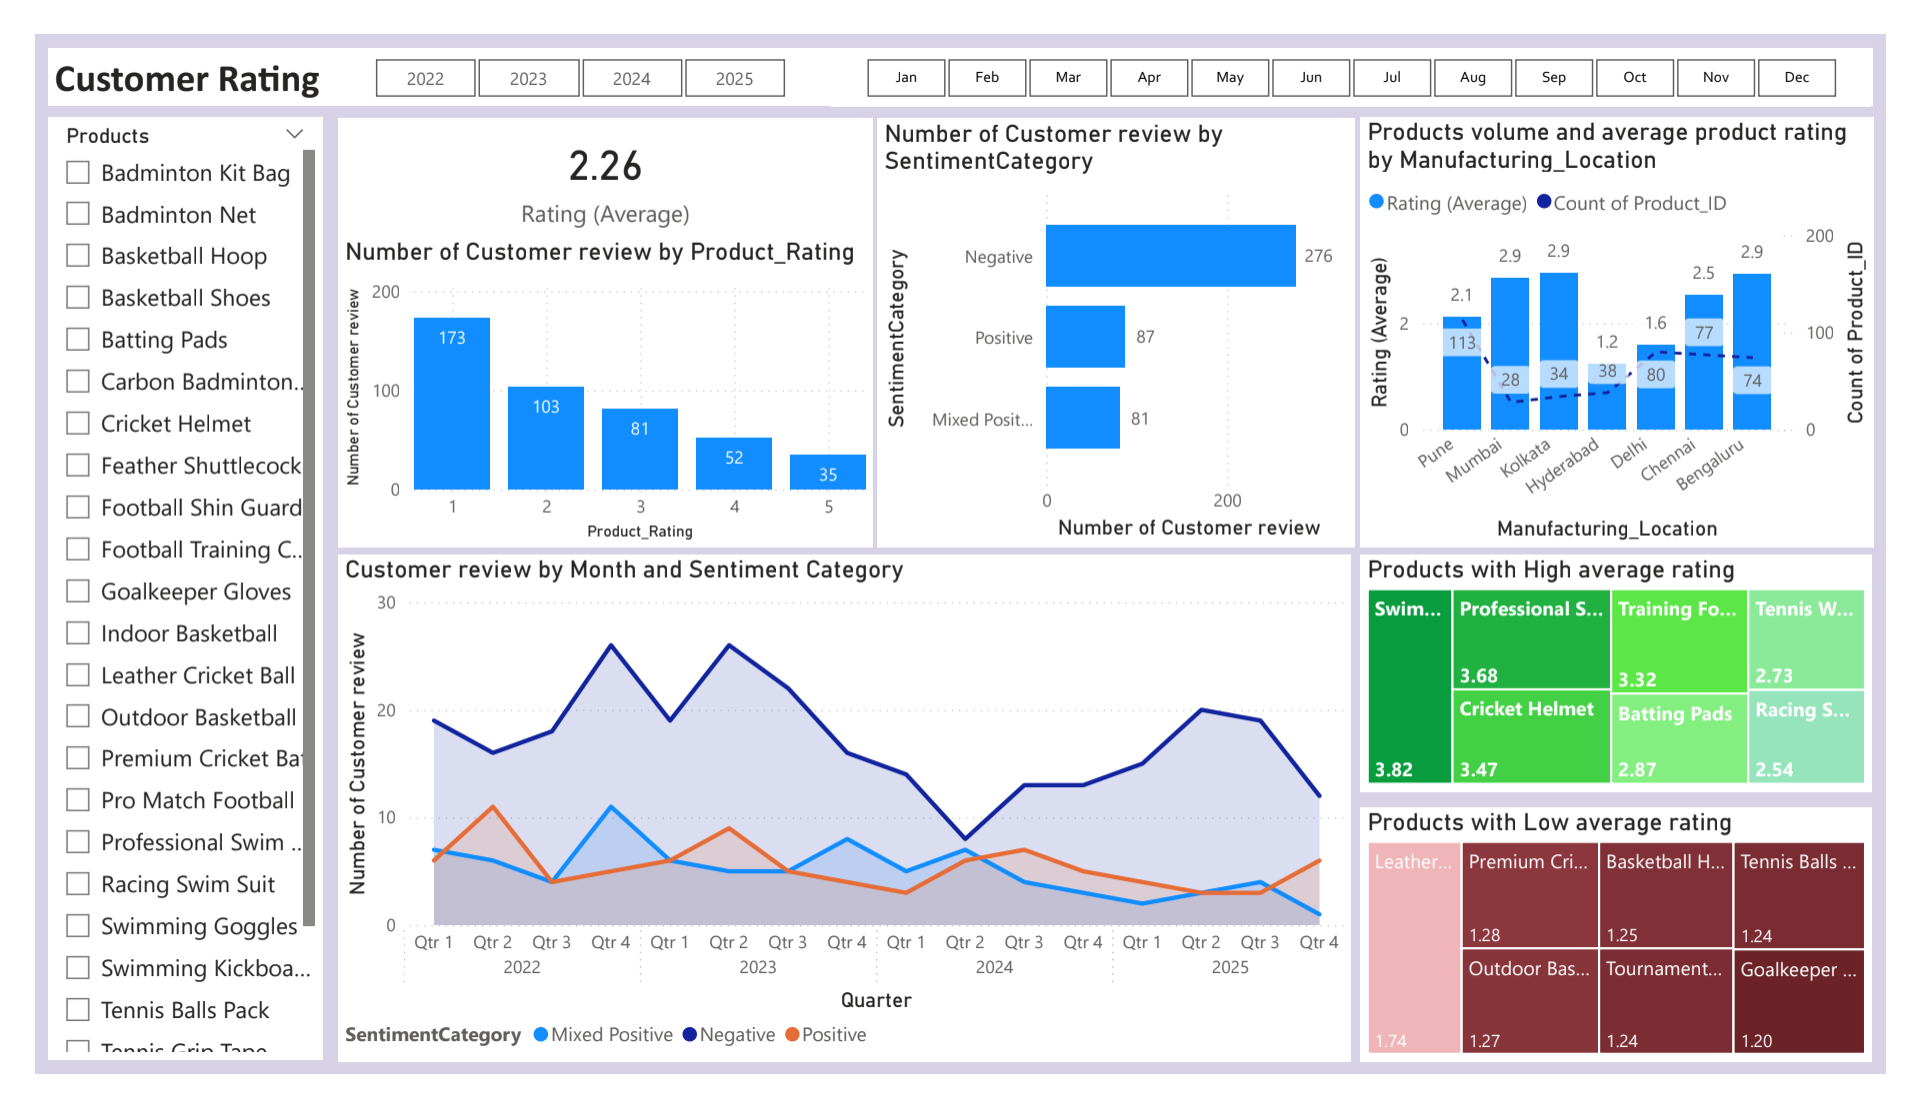

The dashboard page shown, as its layout file describes it:
{"tool":"powerbi","page":{"name":"Cust_Rating","canvas":[1280,720],"ordinal":3},"visuals":[{"type":"textbox","box":[8.8,8.8,1262.5,40],"z":0},{"type":"slicer","fields":{"Values":["Product_master_data.P_Name"]},"box":[8.6,57.1,190,652.9],"z":1000},{"type":"treemap","title":"Products with High average rating","fields":{"Group":["Product_master_data.P_Name"],"Values":["Calculations.Rating (Average)"]},"box":[916.6,359.5,354,164.7],"z":2000},{"type":"slicer","fields":{"Values":["Calendar.Year"]},"box":[209.9,9.6,333.1,39.5],"z":3000,"group":"g1"},{"type":"card","fields":{"Values":["Calculations.Rating Average"]},"box":[209.9,57.6,370.5,82.3],"z":3000},{"type":"slicer","fields":{"Values":["Calendar.MonthNameShort"]},"box":[550.1,10,719.9,39.5],"z":4000,"group":"g1"},{"type":"group","id":"g1","title":"Group 6","box":[209.9,9.6,1060.7,39.8],"z":4000},{"type":"clusteredColumnChart","fields":{"Category":["Customer_reviews_with_Sentiments.Product_Rating"],"Y":["Calculations.Number of Customer review"]},"box":[209.9,140,370.5,215.4],"z":5000},{"type":"clusteredBarChart","fields":{"Category":["Customer_reviews_with_Sentiments.SentimentCategory"],"Y":["Calculations.Number of Customer review"]},"box":[583.2,57.6,329.3,297.8],"z":6000},{"type":"treemap","title":"Products with Low average rating","fields":{"Group":["Product_master_data.P_Name"],"Values":["Calculations.Rating (Average)"]},"box":[916.6,535.2,354,175.6],"z":7000},{"type":"lineChart","title":"Customer review by Month and Sentiment Category","fields":{"Category":["Calendar.Year","Calendar.Date.Variation.Date Hierarchy.Quarter"],"Y":["Calculations.Number of Customer review"],"Series":["Customer_reviews_with_Sentiments.SentimentCategory"]},"box":[209.9,359.5,699.8,351.3],"z":8000},{"type":"lineStackedColumnComboChart","title":"Products volume and average product rating by Manufacturing_Location","fields":{"Category":["Product_master_data.Manufacturing_Location"],"Y":["Calculations.Rating (Average)"],"Y2":["CountNonNull(Customer_reviews_with_Sentiments.Product_ID)"]},"box":[917.1,57.5,354.6,297.1],"z":9000}]}

Visuals, with their boxes in screenshot pixels (x1, y1, x2, y2), scaled from the page's 1280x720 canvas onto the 1920x1109 screenshot:
textbox: (13, 14, 1907, 75)
slicer - Product_master_data.P_Name: (13, 88, 298, 1094)
"Products with High average rating" treemap: (1375, 554, 1906, 807)
slicer - Calendar.Year: (315, 15, 814, 76)
card - Calculations.Rating Average: (315, 89, 871, 215)
slicer - Calendar.MonthNameShort: (825, 15, 1905, 76)
"Group 6" group: (315, 15, 1906, 76)
clusteredColumnChart - Customer_reviews_with_Sentiments.Product_Rating x Calculations.Number of Customer review: (315, 216, 871, 547)
clusteredBarChart - Customer_reviews_with_Sentiments.SentimentCategory x Calculations.Number of Customer review: (875, 89, 1369, 547)
"Products with Low average rating" treemap: (1375, 824, 1906, 1095)
"Customer review by Month and Sentiment Category" lineChart: (315, 554, 1365, 1095)
"Products volume and average product rating by Manufacturing_Location" lineStackedColumnComboChart: (1376, 89, 1908, 546)
